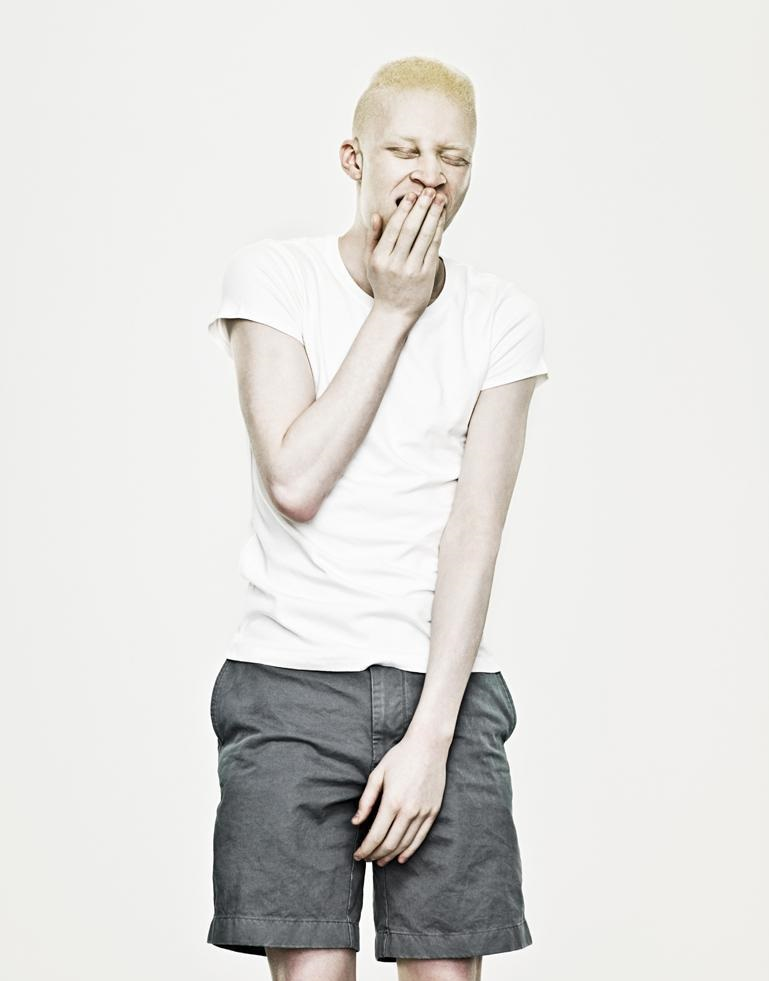face: (364, 86, 469, 249)
